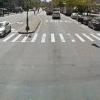Crosswalk: (10, 25, 100, 55)
